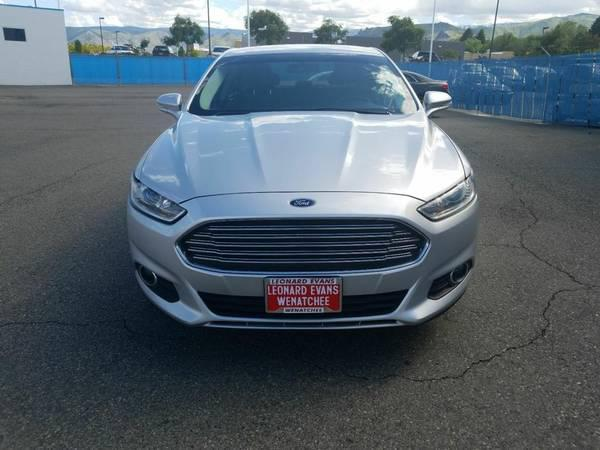Front_Bumper: (126, 196, 478, 325)
Front_Windshield: (188, 51, 417, 117)
Grille: (176, 217, 428, 273)
Hood: (136, 110, 472, 219)
Left_Headlight: (413, 175, 474, 226)
Left_Mirror: (423, 90, 456, 114)
Right_Headlight: (128, 173, 192, 225)
Right_Mirror: (156, 93, 183, 118)
Roof: (219, 45, 386, 60)
